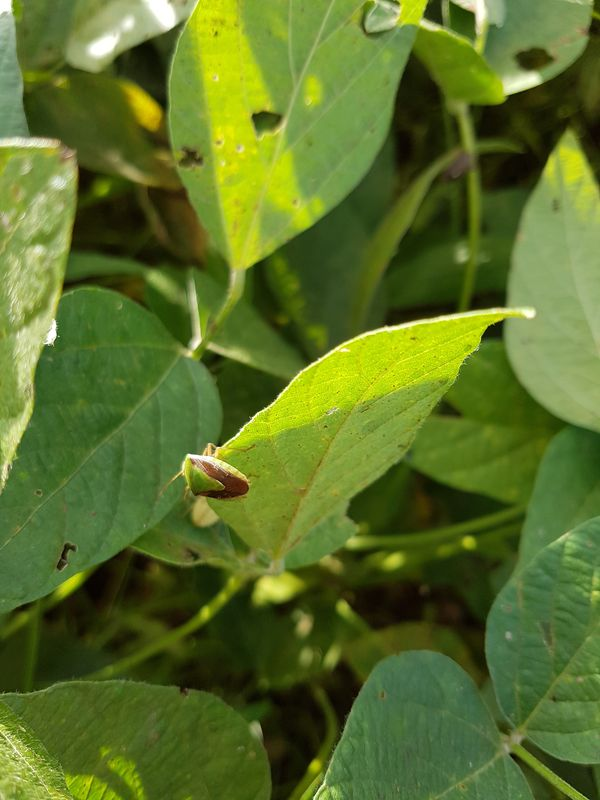Edessa_meditabunda: (157, 437, 260, 514)
